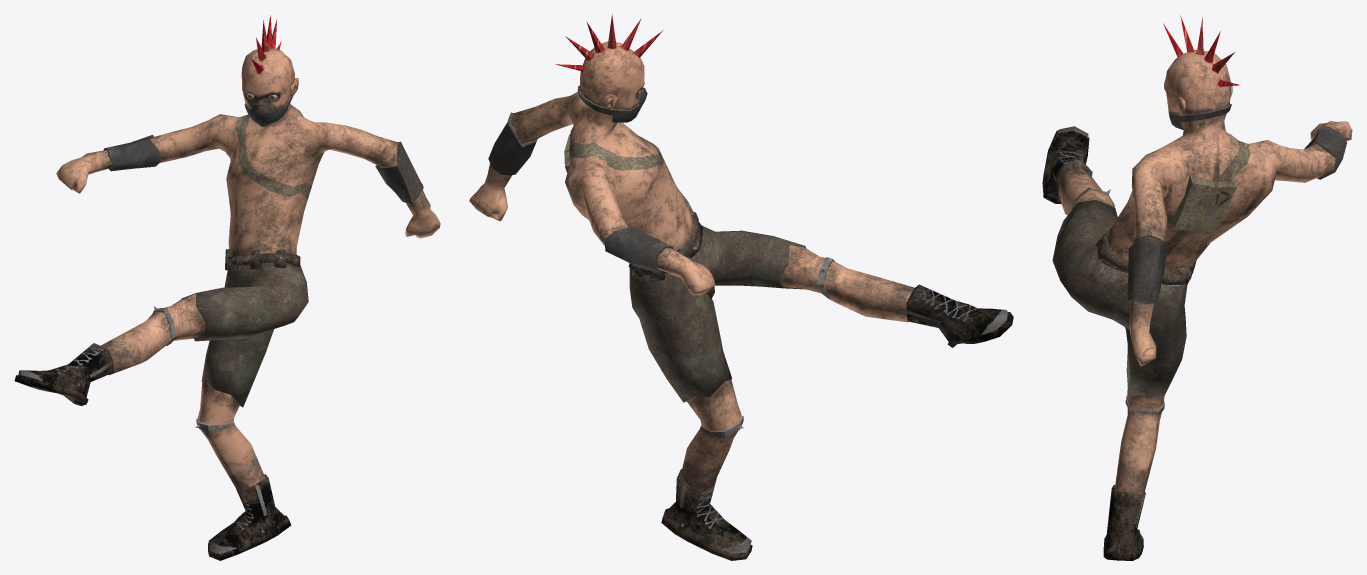
File: Anim_ataque_f3_npc2.0032.obj
The picture shows the model from 3 angles, left to right: view 1: azimuth 30°, elevation 25°; view 2: azimuth 150°, elevation 25°; view 3: azimuth 270°, elevation 25°; orthographic projection. The views are drawn at different scales.
Visible parts, largest first — view 1: polySurface1; view 2: polySurface1; view 3: polySurface1.
Boxes of the visible parts, x1,y1,x2,y2 form: polySurface1: [14, 15, 440, 560]; polySurface1: [469, 14, 1013, 560]; polySurface1: [1042, 15, 1352, 560].
Size of the model in its own units: 9.41 by 9.75 by 4.79.
Materials: 2 (2 with a texture image).
